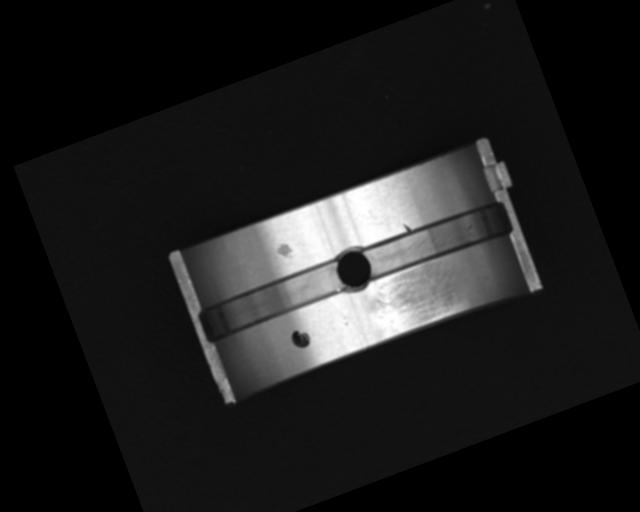blot: (288, 326, 314, 353)
bruise: (273, 239, 296, 262), (401, 221, 411, 233)
gap: (357, 194, 515, 286), (196, 257, 349, 345)
hole: (328, 243, 378, 297)
scratch: (358, 255, 468, 341)
